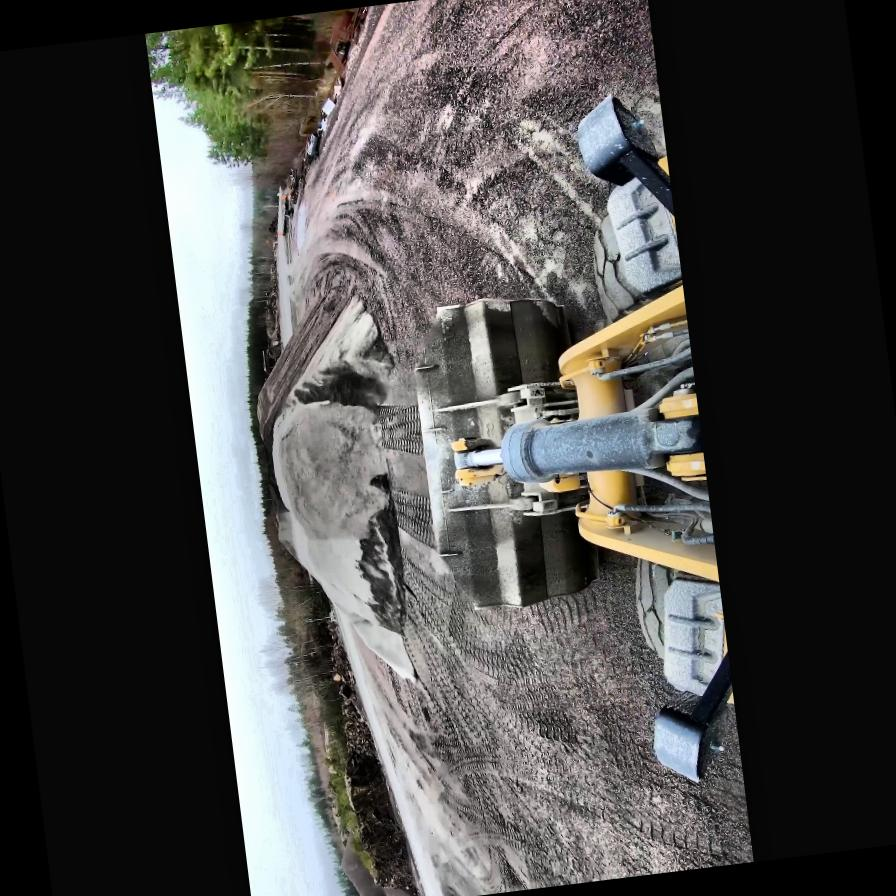anchor: (448, 434, 504, 488)
pile of gravel: (242, 286, 428, 700)
